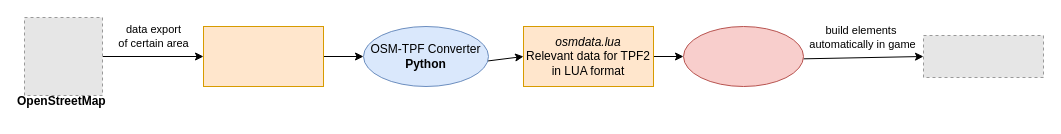
This 1061x134 diagram has some shape labels left out. Grey dashed boxes stand in for pictures. The shapes that lost their labels are listed below. From the top down, each one's centre as x and y in pixels, then its label:
At point 263,56: "map1.osm OSM map data in XML format".
At point 743,56: "OSM Builder LUA (Mod)".
